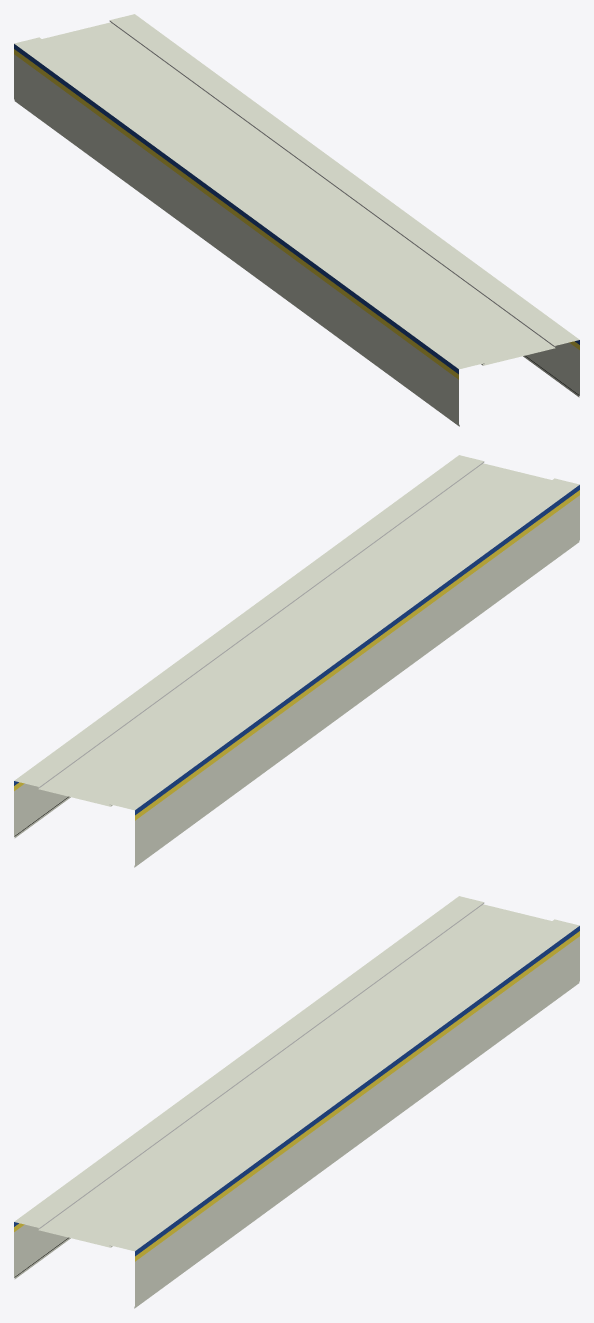
File: Museum_ceiling_Wall .fbx
3 views of the same model, one above another, from view 1: azimuth 30°, elevation 25°; view 2: azimuth 150°, elevation 25°; view 3: azimuth 330°, elevation 25° (orthographic).
Visible parts, largest first — view 1: Museum_Ceiling_walls; view 2: Museum_Ceiling_walls; view 3: Museum_Ceiling_walls.
Boxes of the visible parts, bbox=[...] form: Museum_Ceiling_walls: bbox=[14, 14, 579, 426]; Museum_Ceiling_walls: bbox=[14, 455, 579, 867]; Museum_Ceiling_walls: bbox=[14, 896, 579, 1308].
Bounding box in the file's own units: 10 × 4.56 × 63.8.
4 materials, 2 textured.
